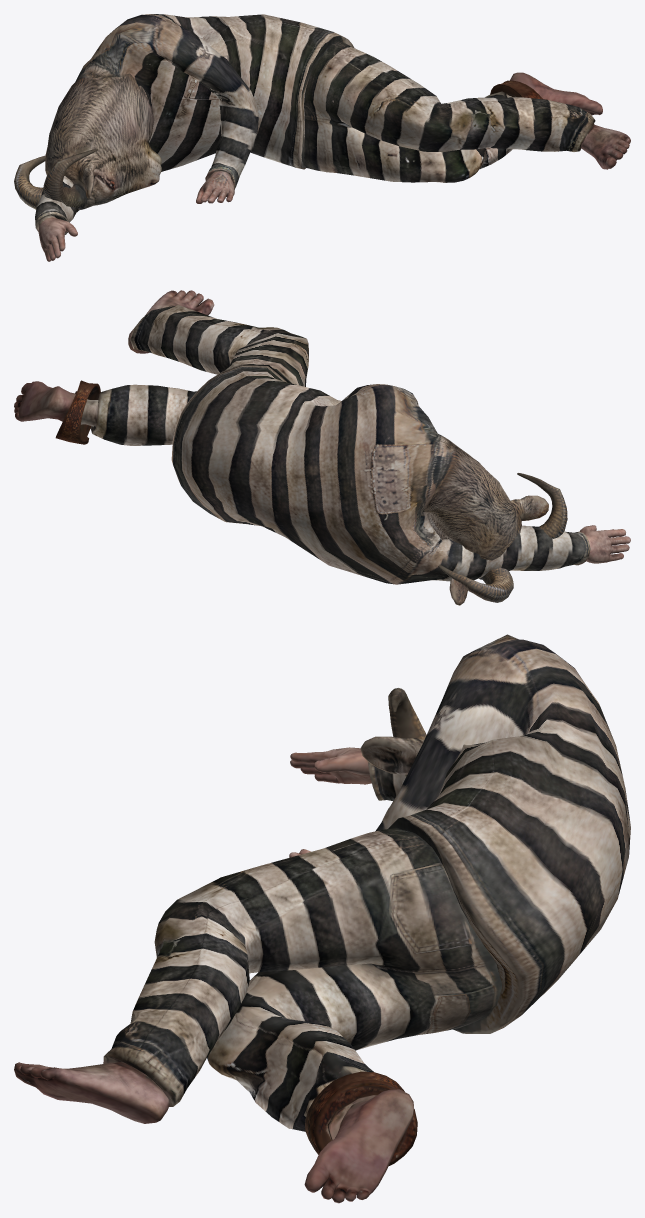
Rendered from Goatprisoner_Die.fbx.
3 views of the same model, one above another, from view 1: azimuth 30°, elevation 25°; view 2: azimuth 150°, elevation 25°; view 3: azimuth 270°, elevation 25° (orthographic). The views are drawn at different scales.
Visible parts, largest first — view 1: tripo_node_2ffae42e.003; view 2: tripo_node_2ffae42e.003; view 3: tripo_node_2ffae42e.003.
Boxes of the visible parts, <box> form: tripo_node_2ffae42e.003: <box>14,14,630,261</box>; tripo_node_2ffae42e.003: <box>14,290,630,605</box>; tripo_node_2ffae42e.003: <box>14,634,630,1203</box>.
Bounding box in the file's own units: 393 × 233 × 115.
